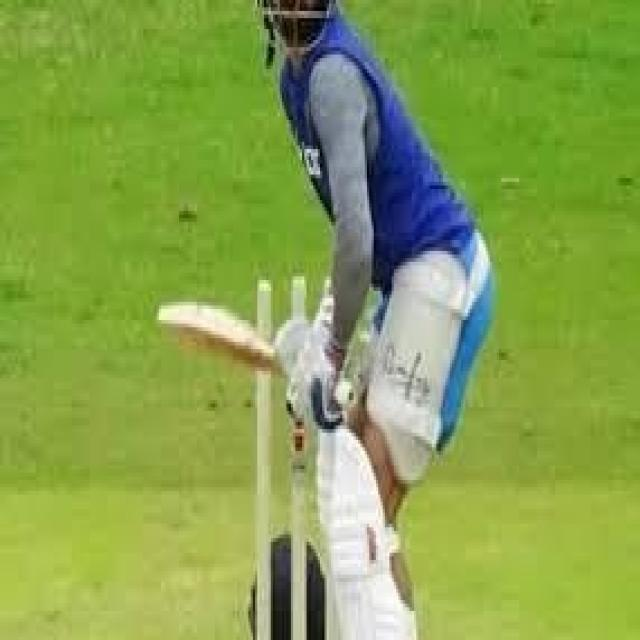bat: (151, 295, 273, 391)
toe: (157, 296, 182, 346)
